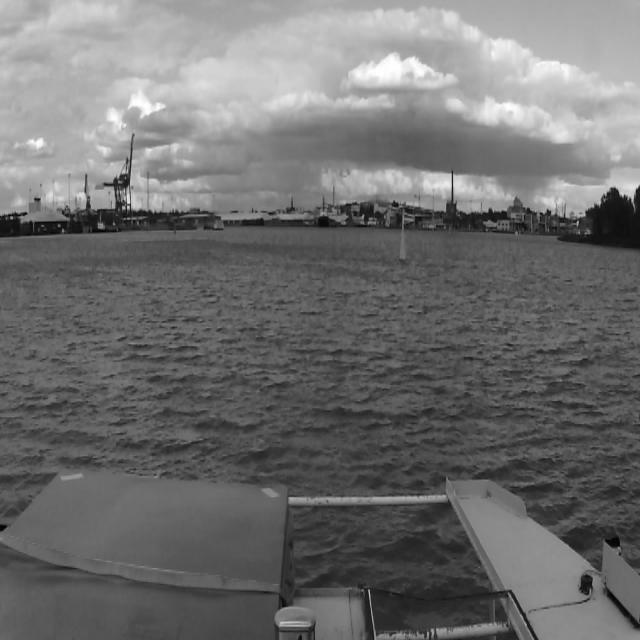buoy: (396, 209, 408, 265), (173, 222, 177, 236), (447, 225, 451, 236)
ship: (304, 204, 350, 223), (318, 193, 330, 228)
